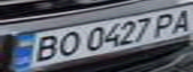0: (81, 25, 106, 52)
2: (118, 17, 142, 47)
4: (103, 20, 124, 50)
7: (130, 15, 160, 43)
A: (166, 6, 193, 35)
B: (21, 33, 66, 63)
O: (51, 29, 84, 57)
P: (148, 11, 184, 38)
